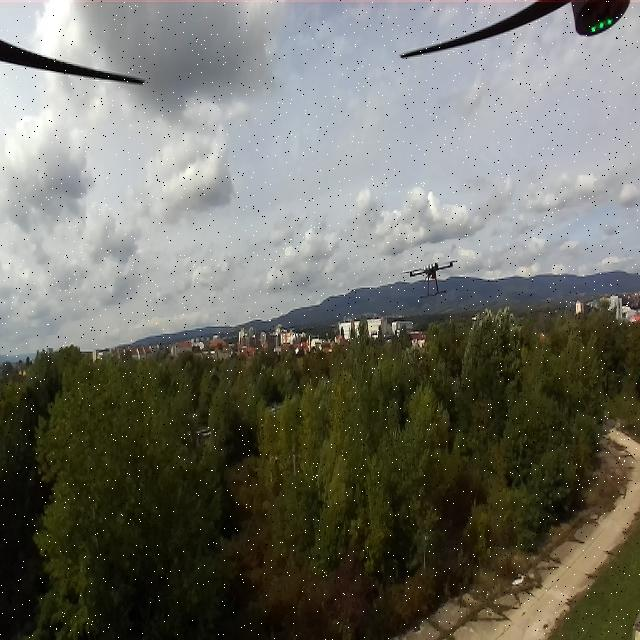UAV: (403, 257, 460, 301)
